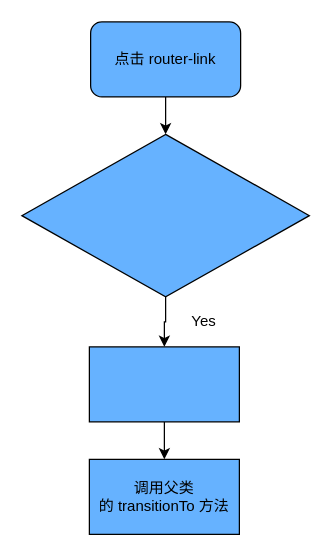
The diagram is 331 pixels wide and 556 high, and some of its shapes have lost their labels. Here are the shapes that lost their labels. From the top down, the centre of each, then its label:
(x=165, y=215): 是否是鼠标左键点击？ target 属性是否为非_blank ?
(x=163, y=384): 调用 router.push 或者 router.place
